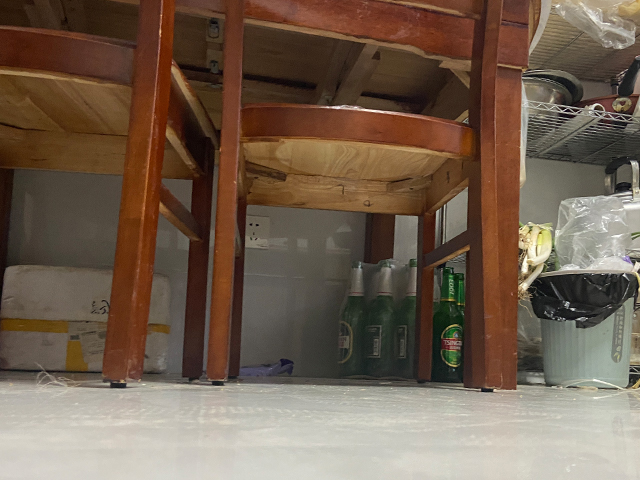stool: (1, 1, 510, 396)
table: (1, 1, 543, 391)
trashcan: (536, 266, 637, 391)
